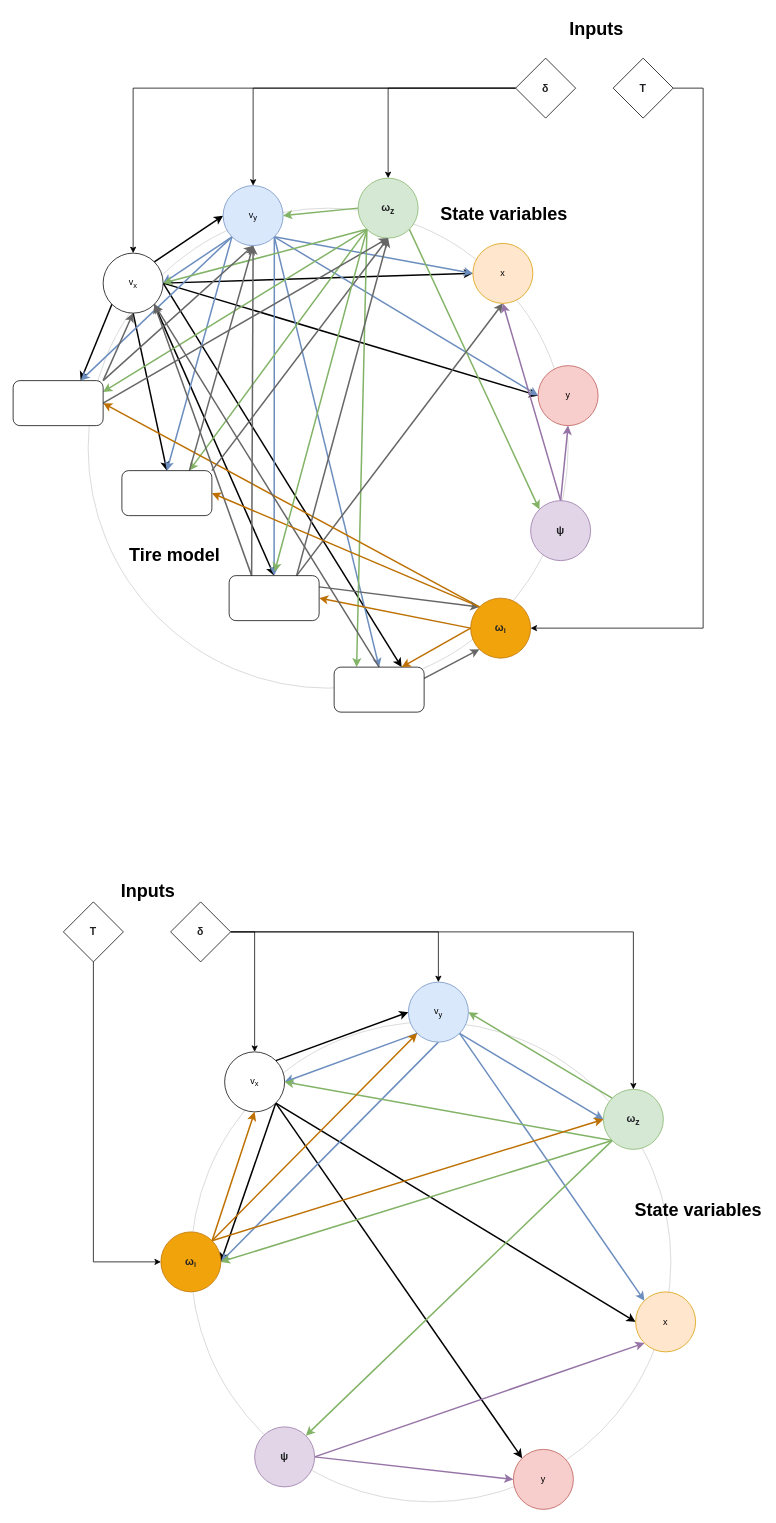
Image size: 776x1523. Some labels were removed from this diagram. The centre of each missing label's shape, as x and y in pixels:
"F xf" belongs at [273,598].
"F xr" belongs at [378,689].
"F yf" belongs at [57,403].
"F yr" belongs at [166,493].
